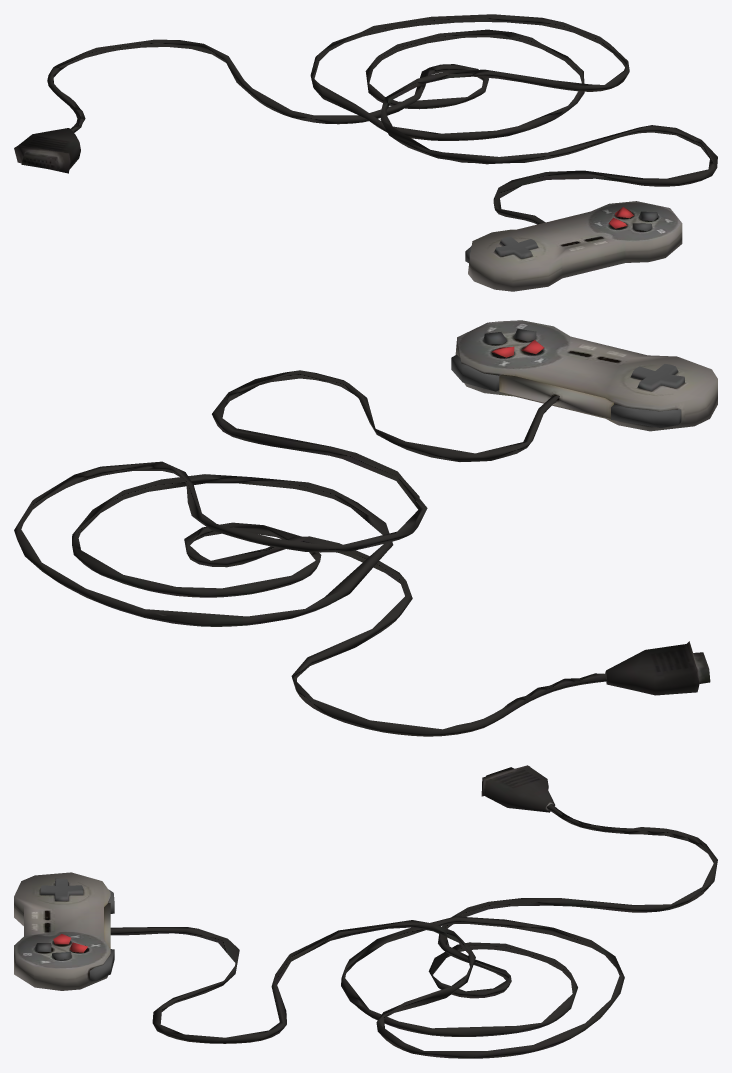
The model's file is gamepad.glb.
The picture shows the model from 3 angles, top to bottom: view 1: azimuth 30°, elevation 25°; view 2: azimuth 150°, elevation 25°; view 3: azimuth 270°, elevation 25°; orthographic projection. The views are drawn at different scales.
Parts seen in each view (by area): view 1: gamepad; view 2: gamepad; view 3: gamepad.
Part boxes in pixels (x1,y1,x2,y2): gamepad: (14, 14, 717, 291); gamepad: (14, 320, 717, 736); gamepad: (14, 765, 717, 1058).
Size of the model in its own units: 0.4037 by 0.0187 by 0.4334.
1 material, 1 textured.
